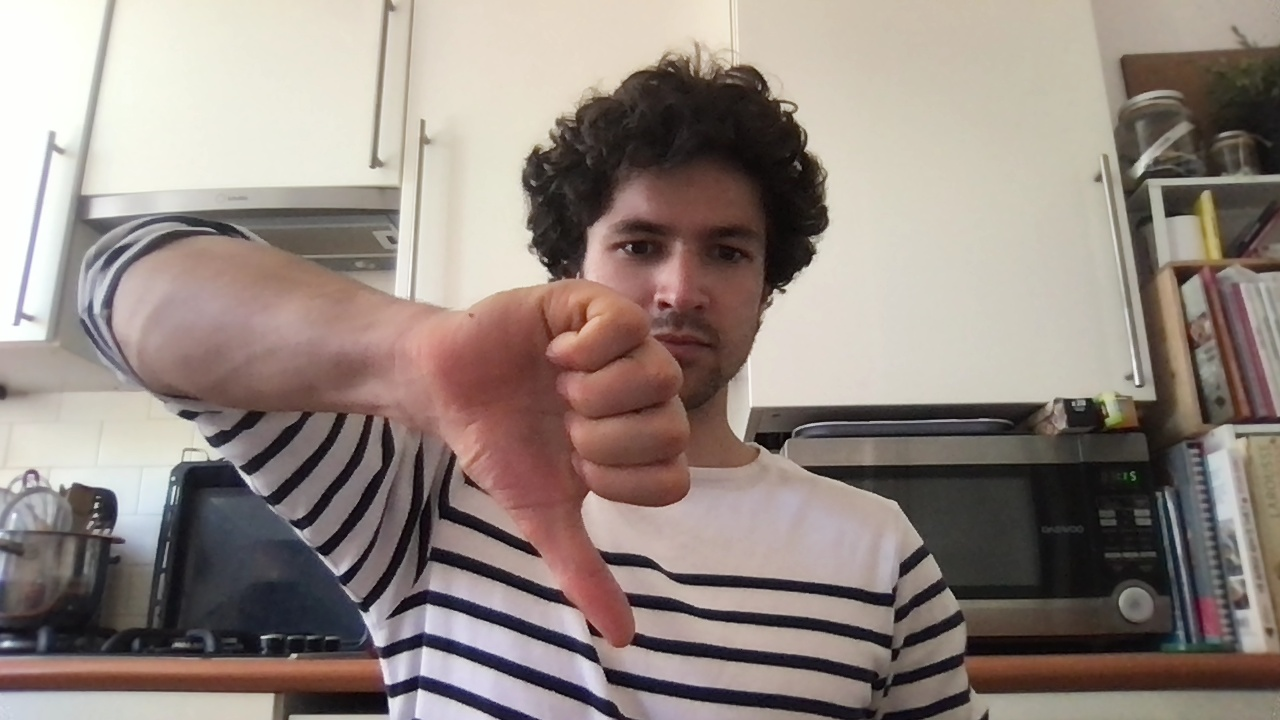thumbDown: (433, 278, 692, 649)
